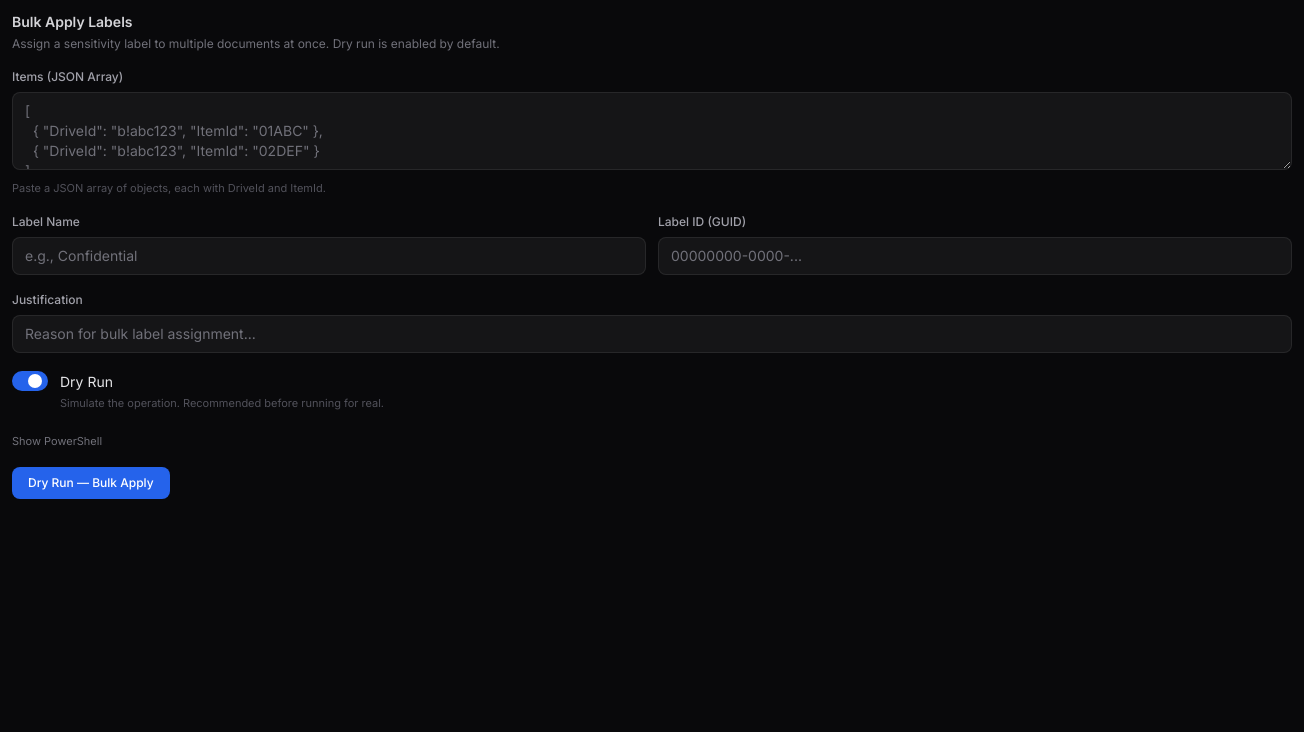
Test: DocumentLabelBulk › shows error when label name and label ID are both empty
The image size is (1304, 732).
Click the button "Dry Run — Bulk Apply" at (91, 483), box [12, 467, 170, 499]
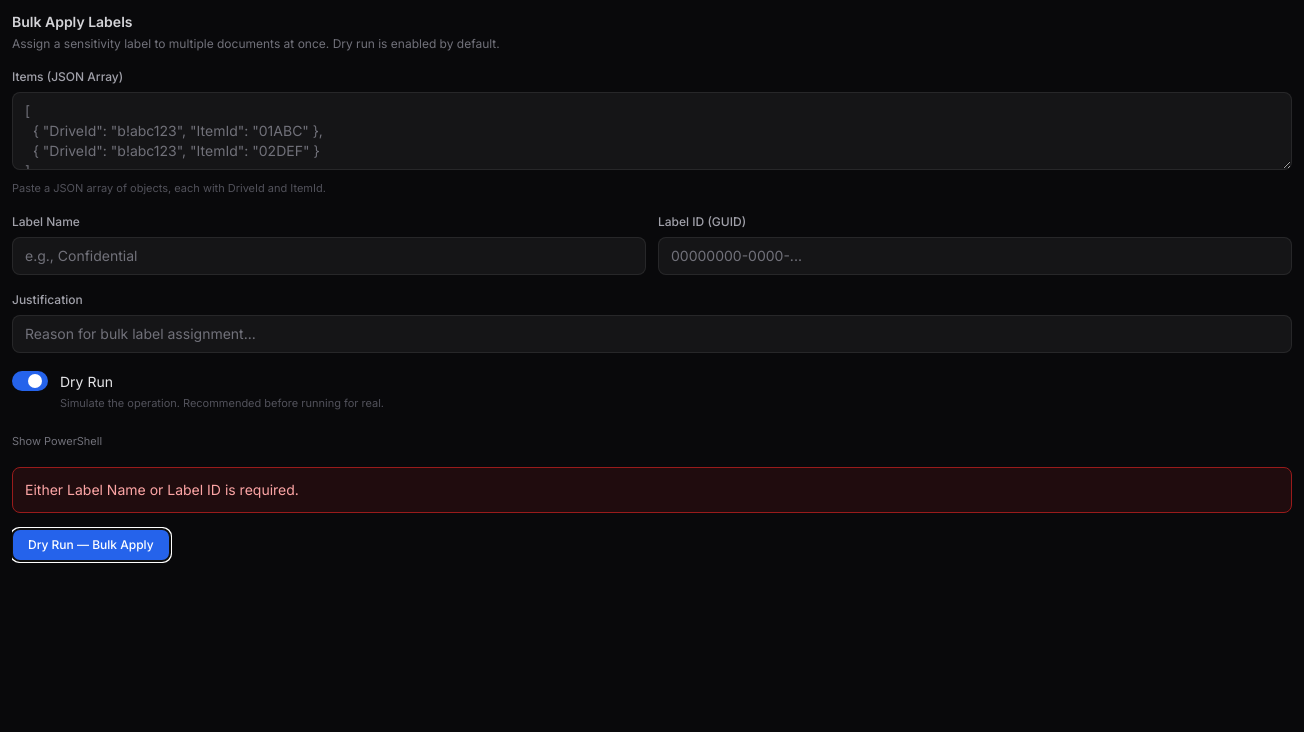
Result: the text "Either Label Name or Label ID is required." is shown at [12, 467, 1292, 513]
